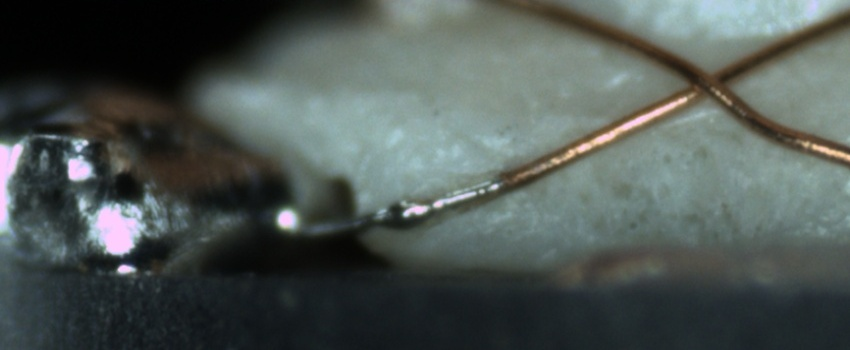CL: (661, 46, 754, 118)
TS: (300, 177, 503, 240)
TTCW: (266, 150, 557, 245)
